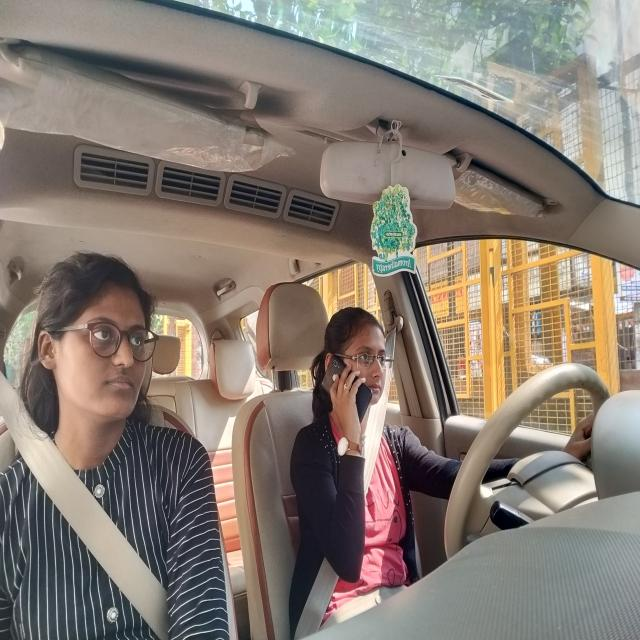mobile: (323, 357, 373, 427)
person: (37, 248, 156, 429), (324, 303, 394, 416)
